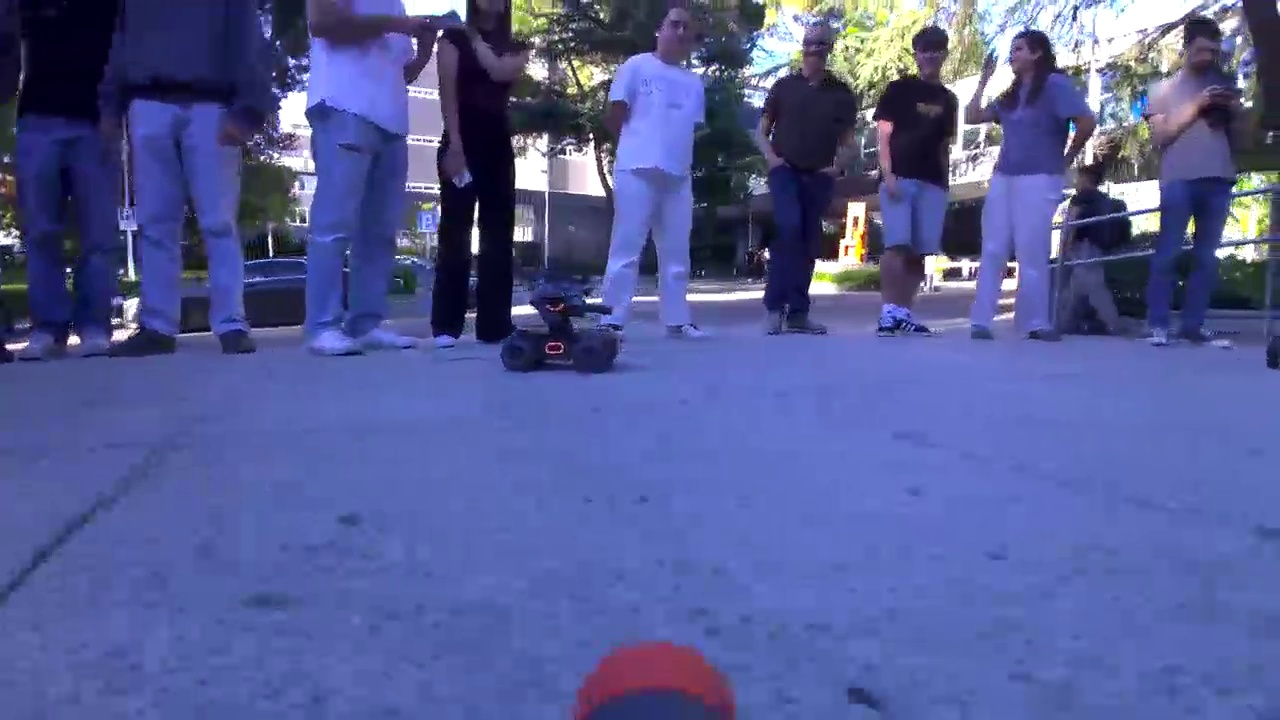robot: (503, 278, 623, 373)
